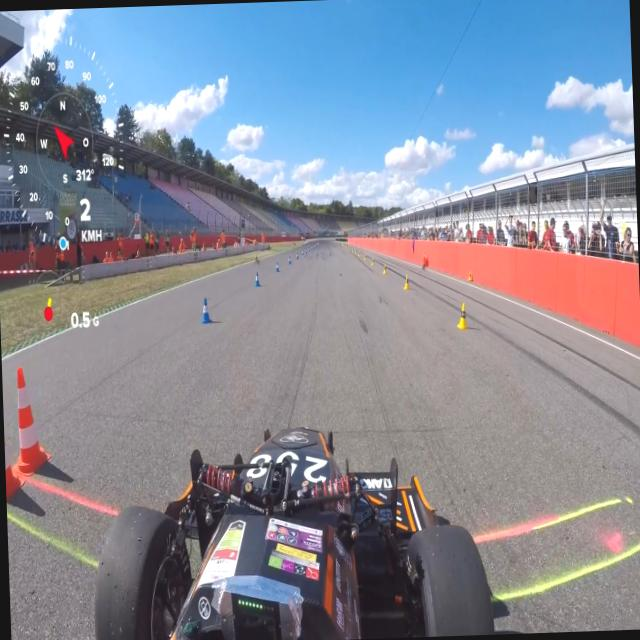blue_cone: (199, 296, 212, 324), (253, 271, 261, 287), (274, 260, 280, 273), (288, 255, 292, 265)
large_orange_cone: (8, 362, 53, 478), (2, 388, 26, 506)
yellow_cone: (455, 300, 468, 330), (402, 272, 409, 290), (381, 262, 387, 275), (370, 256, 374, 266)
